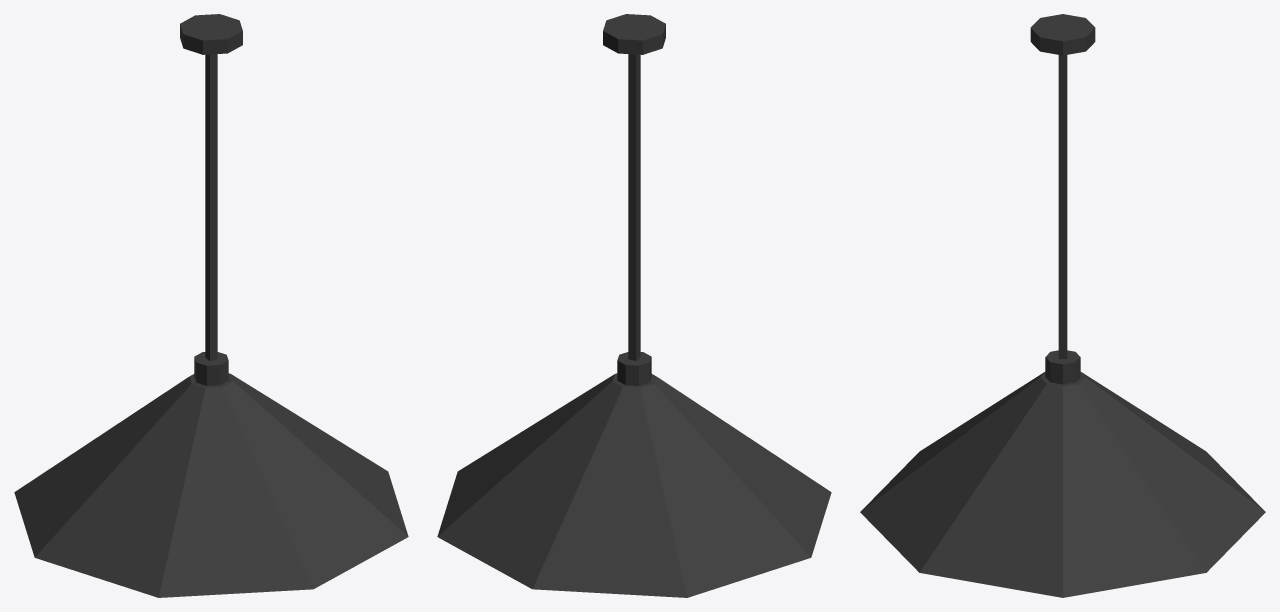
File: Light_13.fbx
3 renders of one model, left to right at view 1: azimuth 30°, elevation 25°; view 2: azimuth 150°, elevation 25°; view 3: azimuth 270°, elevation 25°, orthographic.
Parts seen in each view (by area): view 1: Light_13; view 2: Light_13; view 3: Light_13.
Part boxes in pixels (bbox=[...]): Light_13: bbox=[14, 14, 408, 597]; Light_13: bbox=[437, 14, 831, 597]; Light_13: bbox=[860, 14, 1265, 597].
Size of the model in its own units: 39.32 by 54.04 by 39.32.
